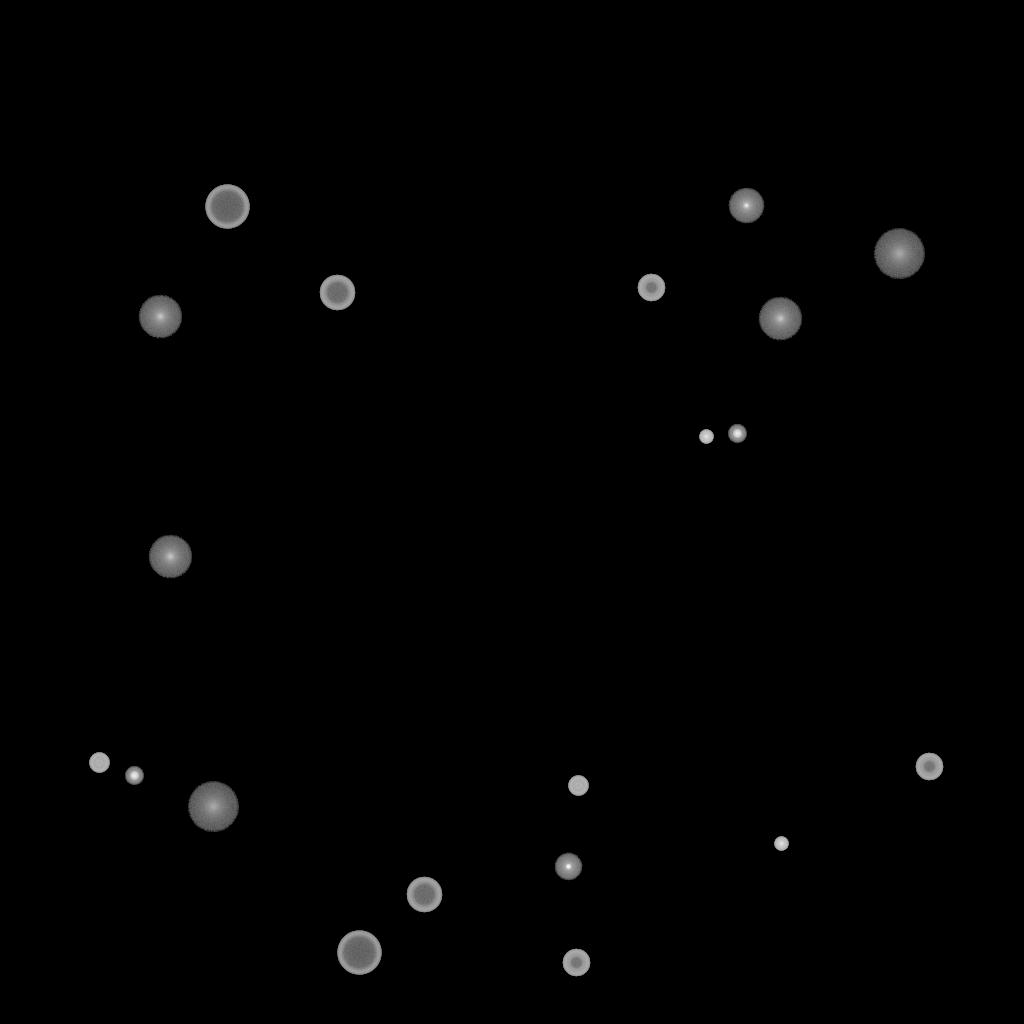depth:-10: (554, 853, 582, 881)
depth:-20: (125, 767, 143, 785), (728, 425, 746, 443)
depth:-30: (699, 430, 713, 444), (774, 837, 788, 851)
depth:-40: (89, 753, 109, 773), (568, 776, 588, 796)
depth:-50: (915, 753, 943, 781), (637, 274, 665, 302), (562, 949, 590, 977)
depth:-60: (406, 877, 442, 913), (319, 275, 355, 311)
depth:-70: (337, 931, 381, 975), (205, 185, 249, 229)
depth:0: (728, 188, 764, 224)
depth:10: (138, 295, 182, 339), (758, 297, 802, 341), (148, 535, 192, 579)
depth:20: (187, 782, 239, 832), (873, 229, 925, 279)
